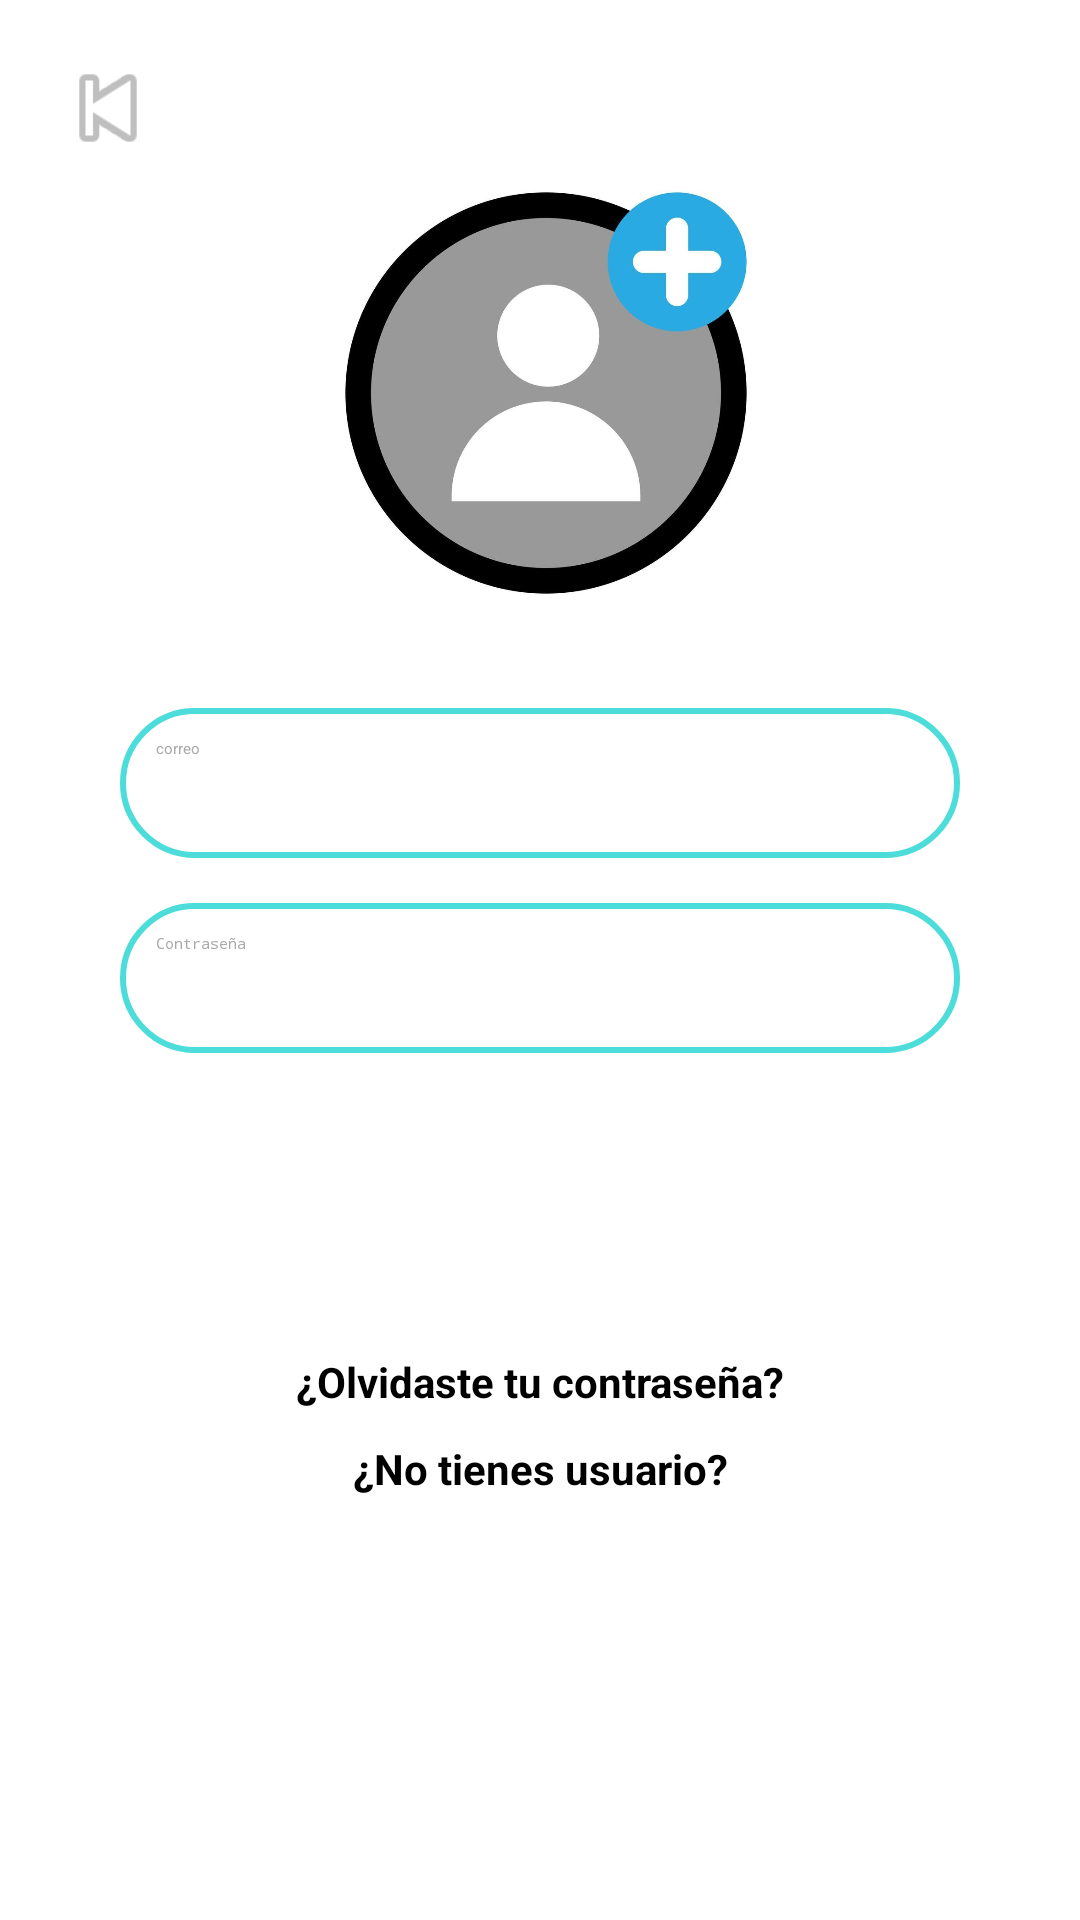

Icon click points for this 1080 x 1920 phone screenshot, format (x=x, y=y):
previous: (x=108, y=108)
